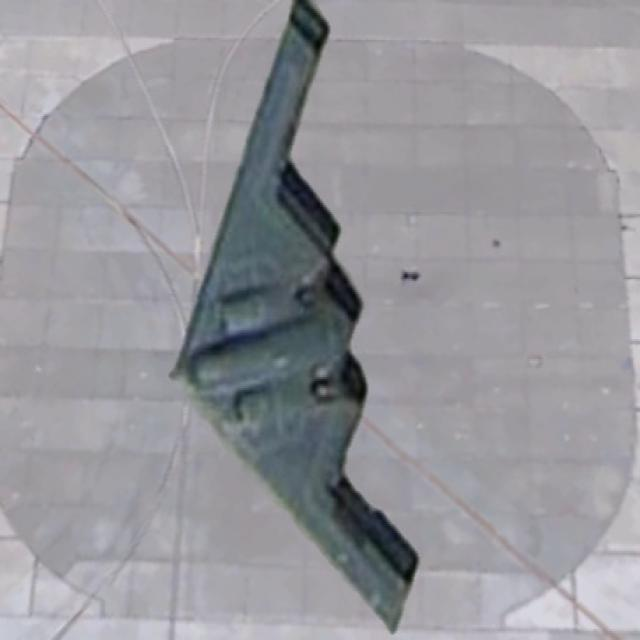B-2_TopDown: (0, 0, 638, 636), (165, 0, 423, 635)
